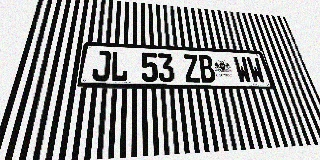3: (157, 53, 175, 82)
5: (141, 52, 158, 82)
B: (197, 55, 216, 82)
J: (91, 50, 111, 81)
L: (110, 51, 128, 81)
W: (233, 56, 253, 83), (246, 57, 266, 83)
Z: (183, 54, 201, 82)
